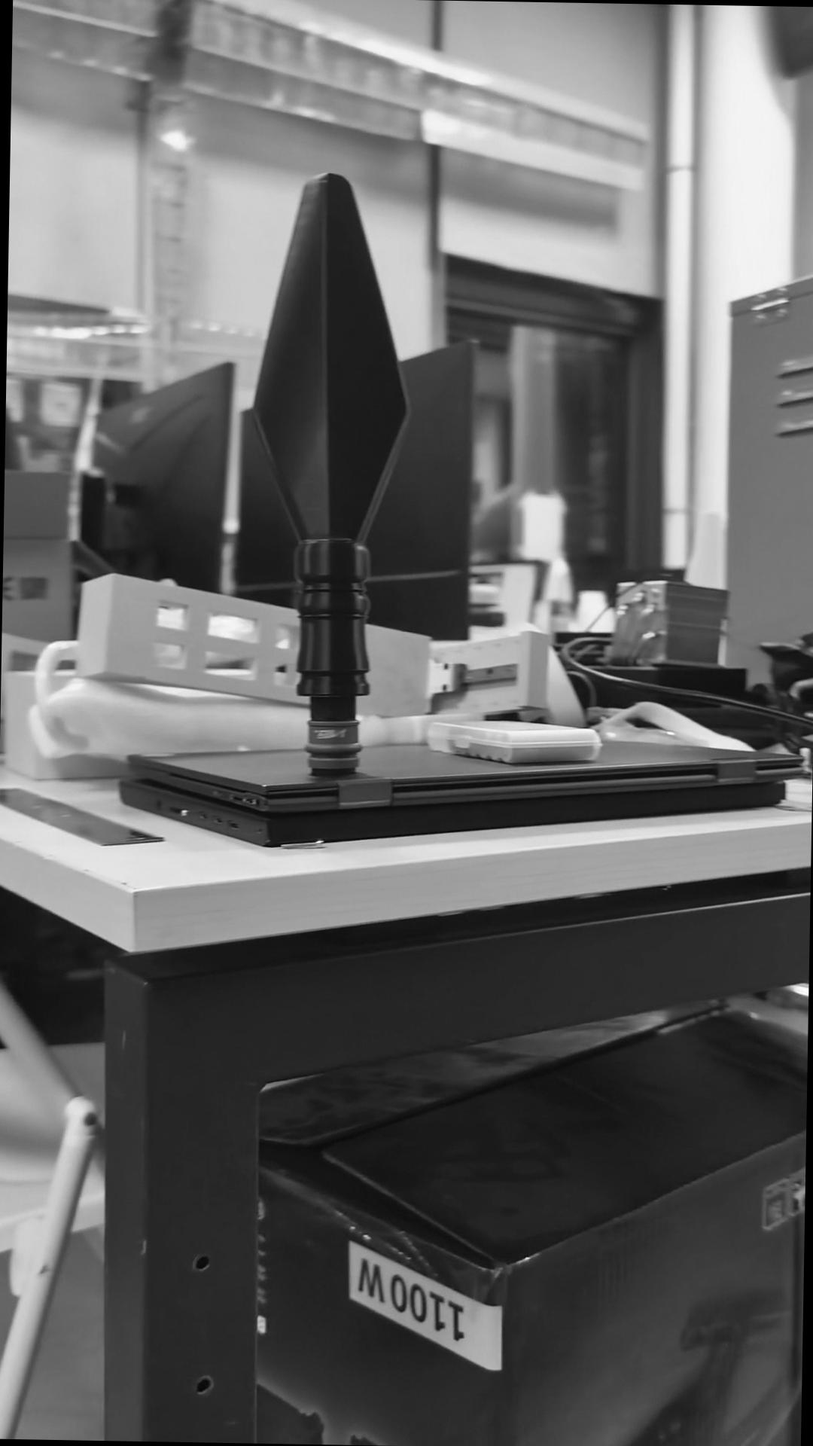base: (297, 712, 373, 787)
